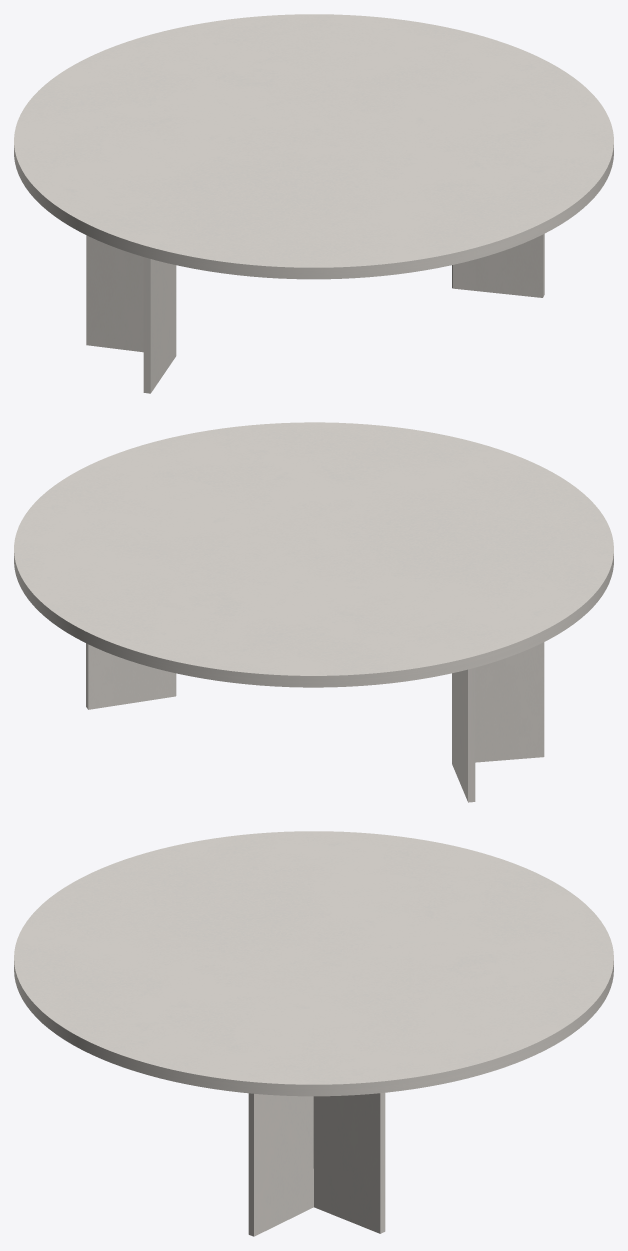
File: pearlwhite_round_standard_valleyv.glb
3 views of the same model, one above another, from view 1: azimuth 30°, elevation 25°; view 2: azimuth 150°, elevation 25°; view 3: azimuth 270°, elevation 25° (orthographic).
Visible parts, largest first — view 1: tabletop_round_standard.007, tableleg_valleyv.013; view 2: tabletop_round_standard.007, tableleg_valleyv.013; view 3: tabletop_round_standard.007, tableleg_valleyv.013.
Boxes of the visible parts, x1=… form: tabletop_round_standard.007: x1=14, y1=14, x2=613, y2=279; tableleg_valleyv.013: x1=86, y1=234, x2=544, y2=393; tabletop_round_standard.007: x1=14, y1=422, x2=613, y2=687; tableleg_valleyv.013: x1=86, y1=642, x2=544, y2=802; tabletop_round_standard.007: x1=14, y1=831, x2=613, y2=1096; tableleg_valleyv.013: x1=248, y1=1092, x2=385, y2=1236.
Size of the model in its own units: 7.5 by 2.5 by 7.5.
Materials: 1 (1 with a texture image).
